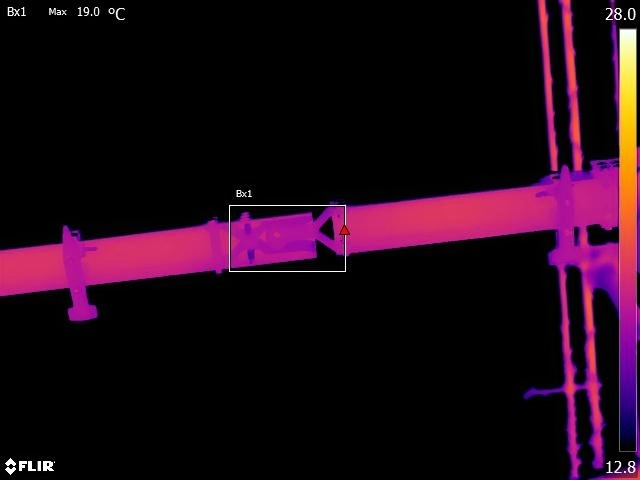switch: (1, 151, 616, 321)
